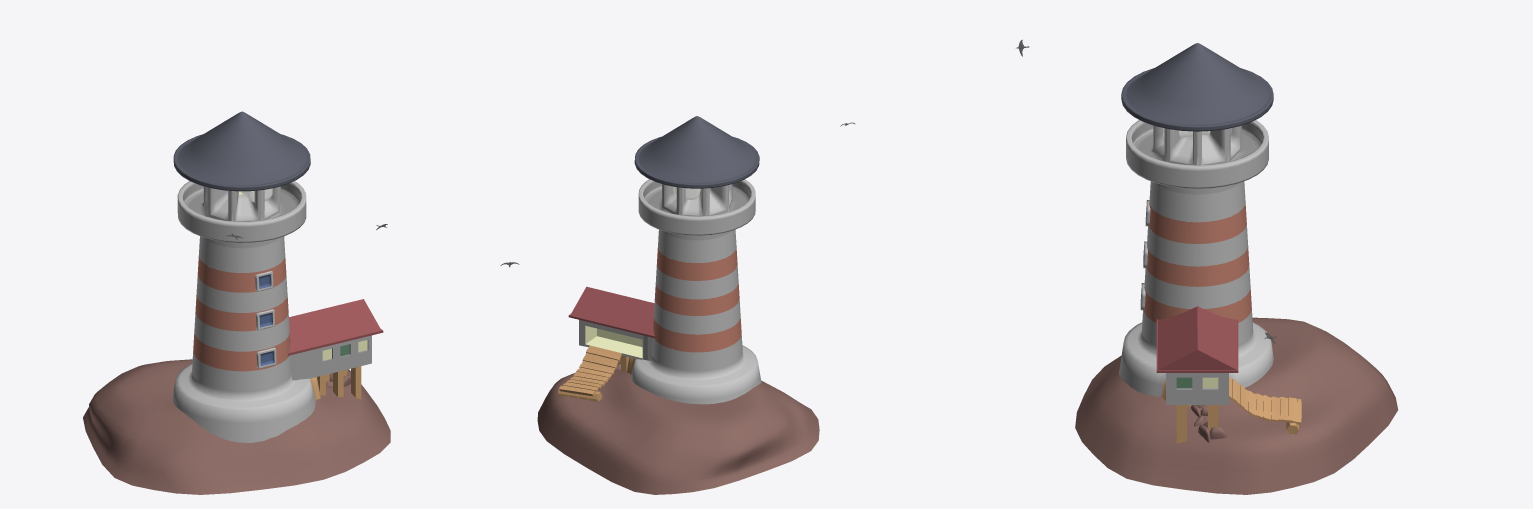
Rendered from building-spark-wish-beacon.glb.
3 views of the same model, side by side, from view 1: azimuth 30°, elevation 25°; view 2: azimuth 150°, elevation 25°; view 3: azimuth 270°, elevation 25° (orthographic). The views are drawn at different scales.
Parts seen in each view (by area): view 1: Tower, Stone, House; view 2: Tower, Stone, House; view 3: Tower, Stone, House.
Boxes of the visible parts, bbox=[...] form: Tower: bbox=[172, 111, 320, 442]; Stone: bbox=[83, 359, 390, 494]; House: bbox=[288, 299, 383, 399]; Tower: bbox=[627, 116, 761, 404]; Stone: bbox=[537, 363, 819, 494]; House: bbox=[558, 286, 655, 401]; Tower: bbox=[1119, 43, 1273, 406]; Stone: bbox=[1075, 317, 1398, 494]; House: bbox=[1156, 306, 1301, 443].
Size of the model in its own units: 20.88 by 22.3 by 33.68.
